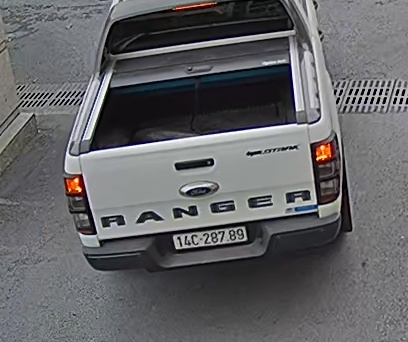vehicle plate: (165, 224, 257, 251)
